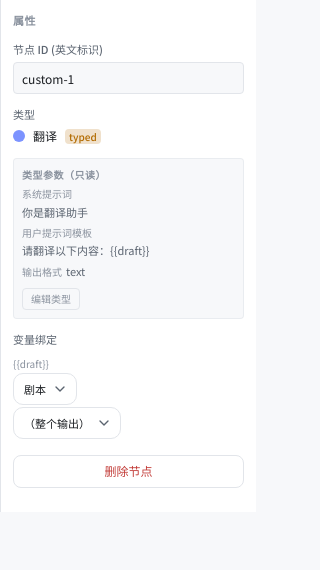
PropertiesPanel field-level varBindings (P5) › renders a field picker populated from the upstream node type's OutputSchema + 整个输出 default
Click the dropdown named "字段绑定 draft" at [67, 423], box [13,407,121,439]
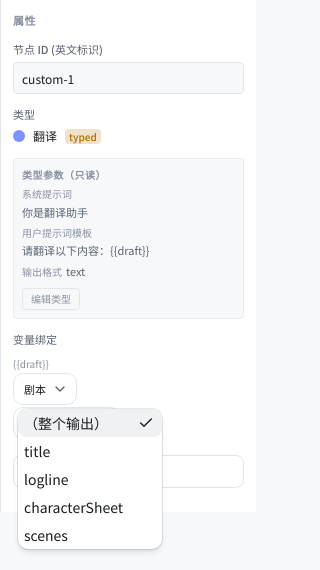
Expected: the option "（整个输出）" is shown, [18,409,162,437]
Expected: the option "title" is shown, [24,441,50,461]
Expected: the option "logline" is shown, [24,469,68,489]
